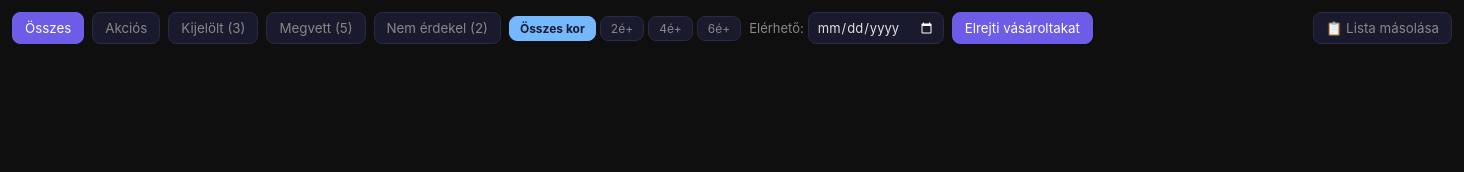
Test: FilterBar › shows copied confirmation after successful copy
The image size is (1464, 172).
Click the button with test id "copy-list-btn" at point(1382, 28), box left=1313, top=12, right=1452, bottom=44
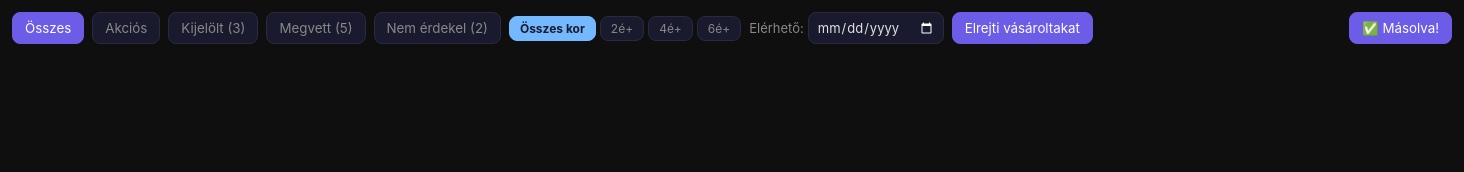
Now the button "✅ Másolva!" is shown, box left=1349, top=12, right=1452, bottom=44
